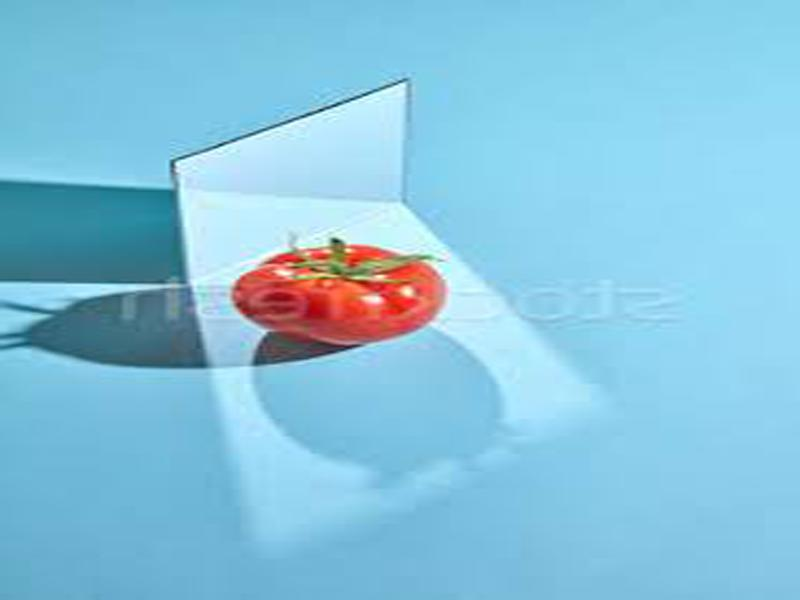Tomato: (231, 244, 445, 345)
